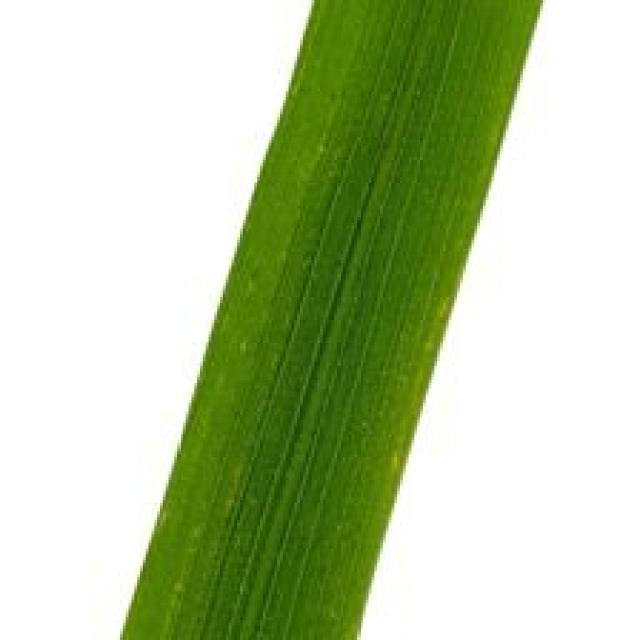Rice___Healthy_Rice_Plant: (113, 0, 543, 637)
